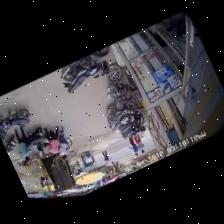person: (15, 125, 31, 161), (44, 125, 60, 156), (59, 127, 68, 158), (129, 136, 138, 155), (135, 134, 144, 152), (103, 150, 111, 167)
